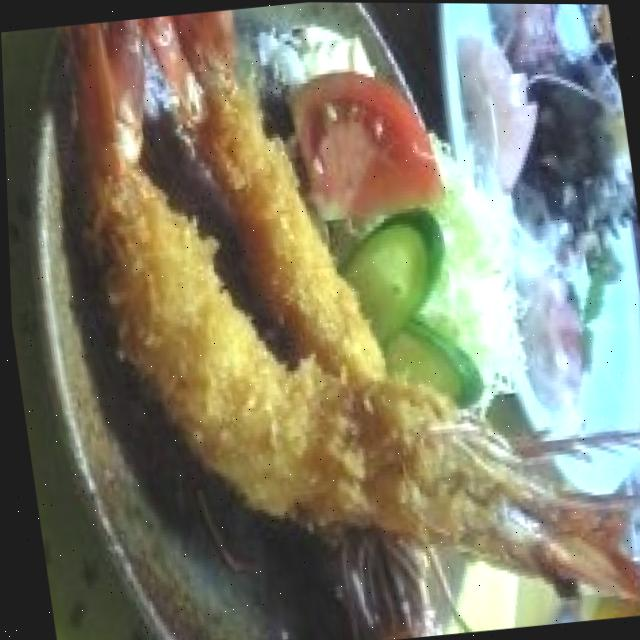炸货点心: (28, 0, 640, 640)
熟制海鲜: (28, 0, 640, 640)
